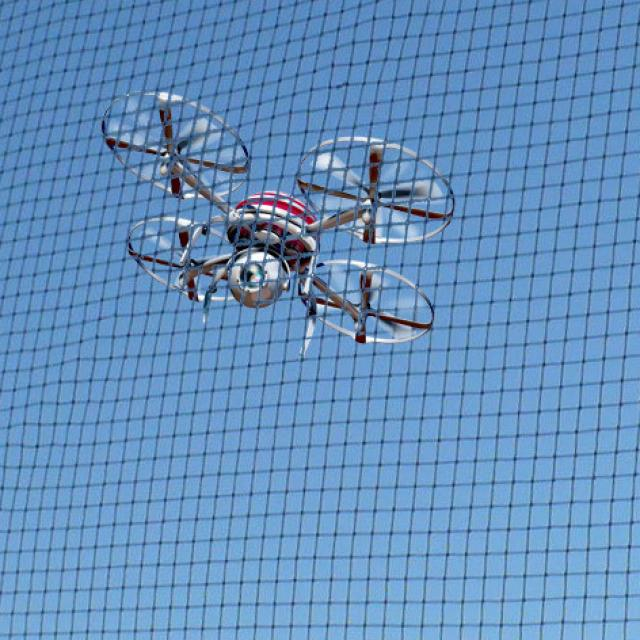drone: (76, 71, 462, 374)
